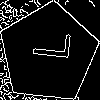L: (23, 28, 71, 62)
